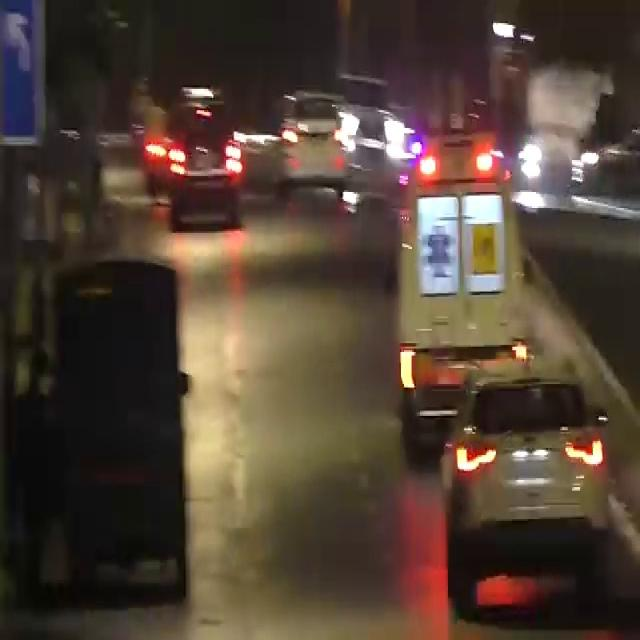ambulance: (408, 127, 535, 382)
